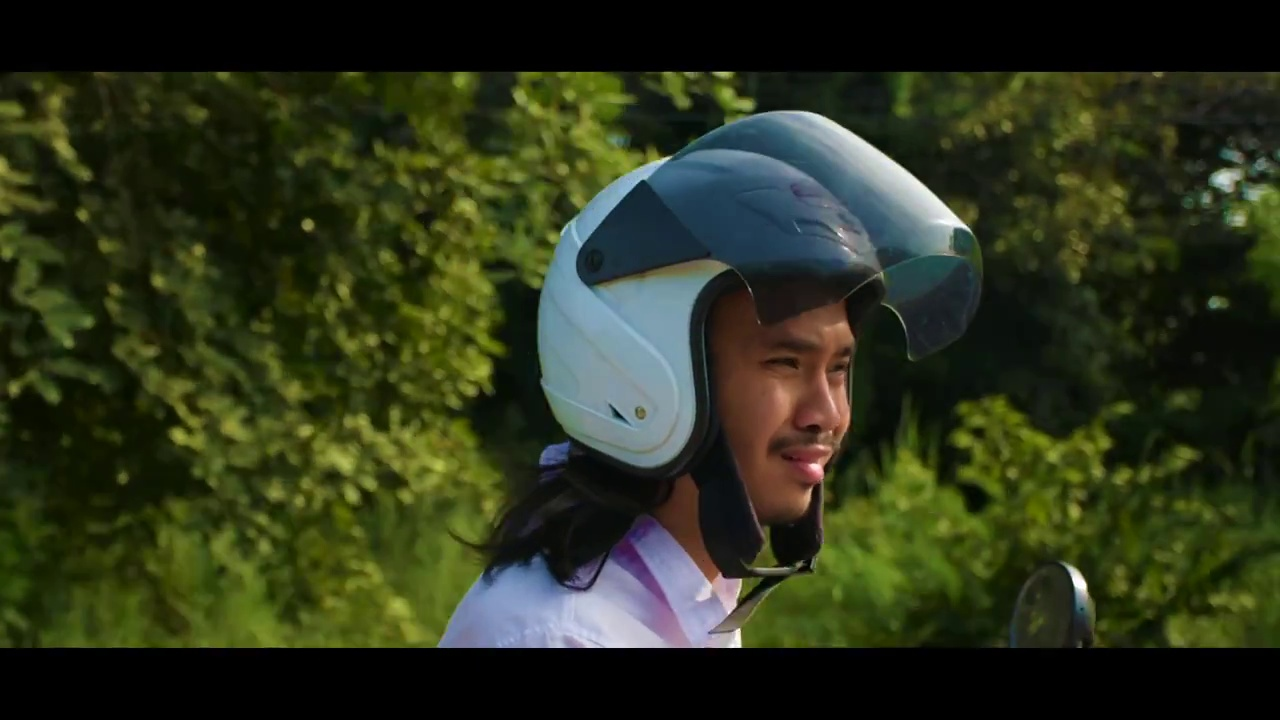helmet: (535, 116, 849, 496)
